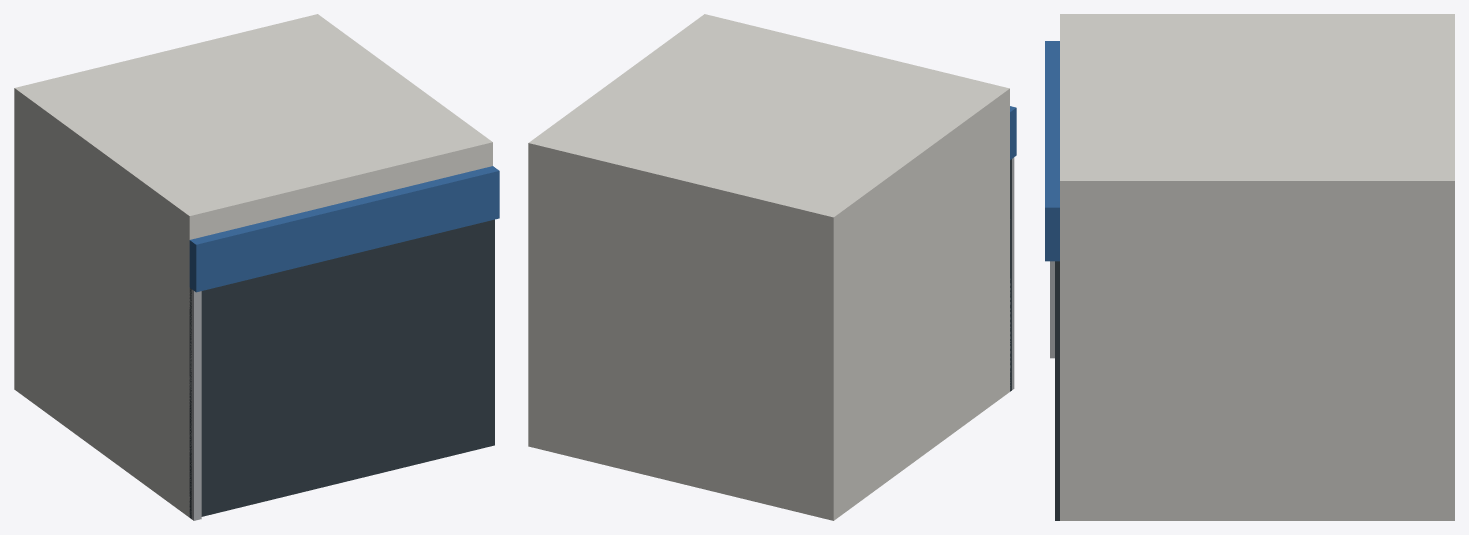
The model's file is galleria-front.glb.
3 renders of one model, left to right at view 1: azimuth 30°, elevation 25°; view 2: azimuth 150°, elevation 25°; view 3: azimuth 270°, elevation 25°, orthographic. The views are drawn at different scales.
Visible parts, largest first — view 1: galleria-front; view 2: galleria-front; view 3: galleria-front.
Boxes of the visible parts, x1,y1,x2,y2 form: galleria-front: (14, 14, 499, 520); galleria-front: (528, 14, 1016, 520); galleria-front: (1045, 14, 1454, 520).
Size of the model in its own units: 4 by 3.8 by 4.15.
